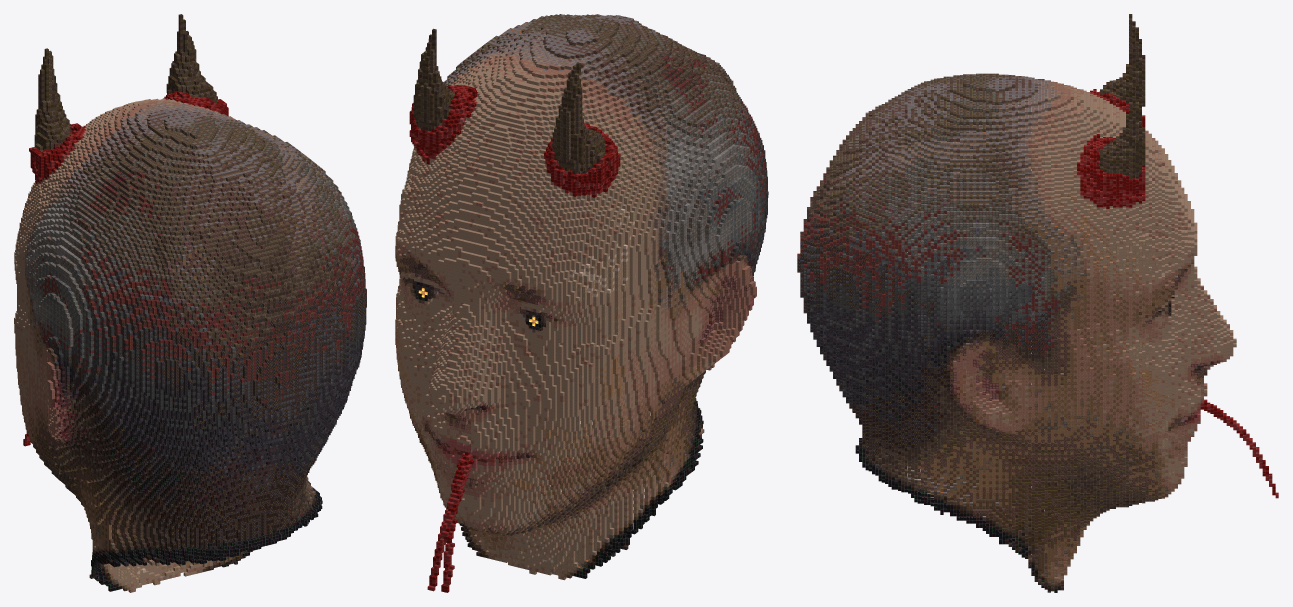
File: Devil_Chairman.glb
3 renders of one model, left to right at view 1: azimuth 30°, elevation 25°; view 2: azimuth 150°, elevation 25°; view 3: azimuth 270°, elevation 25°, orthographic. The views are drawn at different scales.
Visible parts, largest first — view 1: FlatWorld__-1075_-60_822_to_-941_130_973; view 2: FlatWorld__-1075_-60_822_to_-941_130_973; view 3: FlatWorld__-1075_-60_822_to_-941_130_973.
Boxes of the visible parts, x1,y1,x2,y2 form: FlatWorld__-1075_-60_822_to_-941_130_973: (14, 14, 366, 592); FlatWorld__-1075_-60_822_to_-941_130_973: (395, 14, 768, 592); FlatWorld__-1075_-60_822_to_-941_130_973: (797, 14, 1278, 592).
Bounding box in the file's own units: 103 × 175 × 148.
88 materials, 88 textured.
